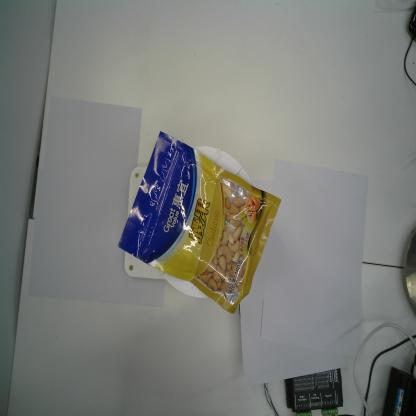Dried Fruit: (116, 128, 284, 318)
